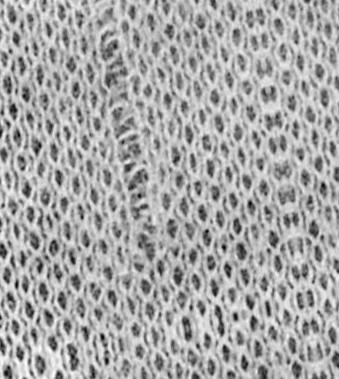slub: (93, 26, 176, 272)
